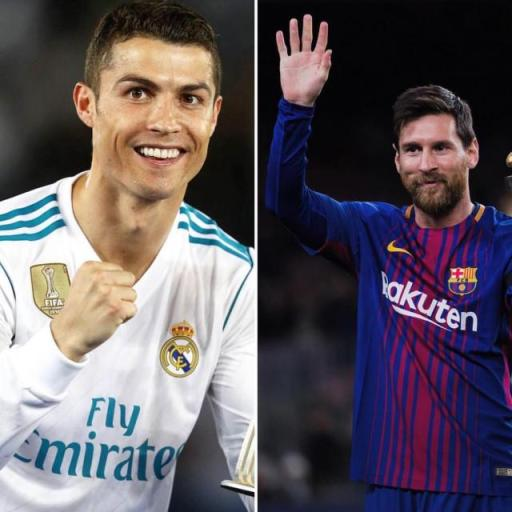Emirates: (10, 393, 184, 483)
